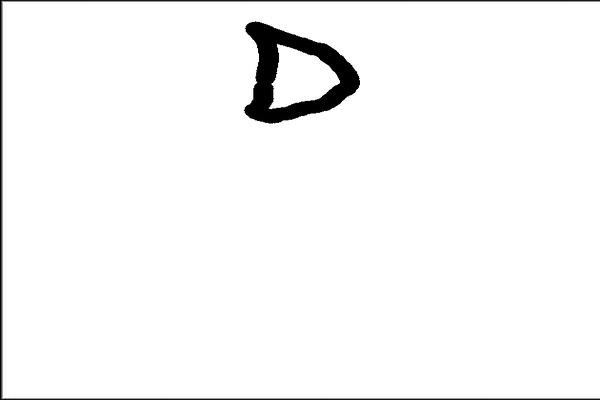D: (237, 15, 363, 126)
